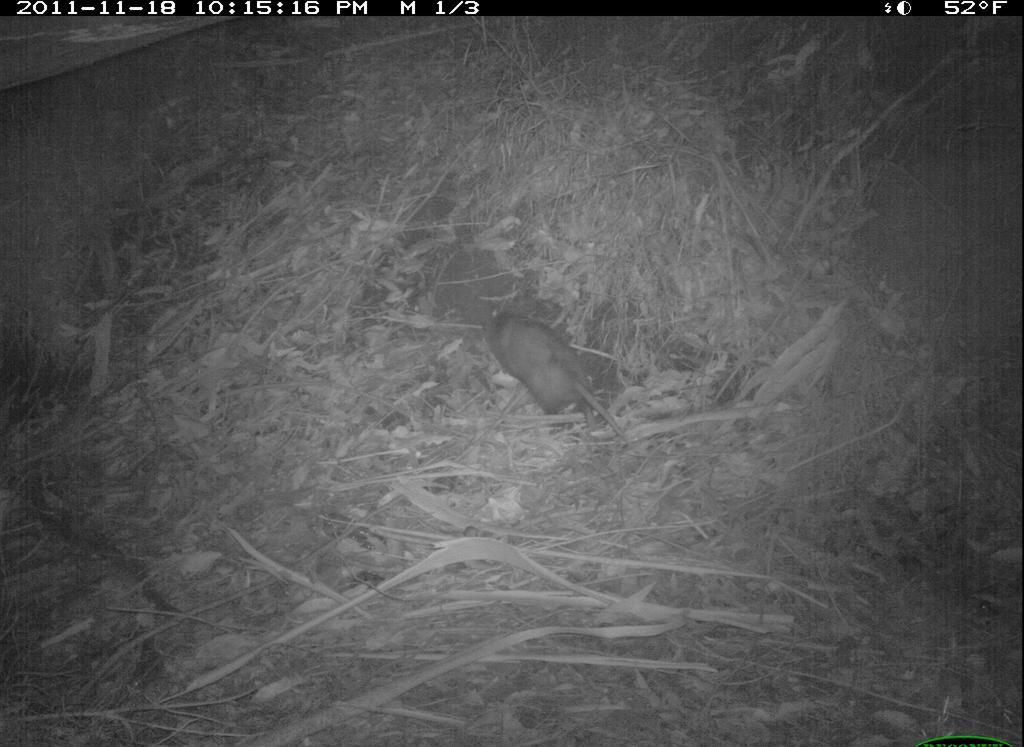opossum: (469, 309, 649, 451)
